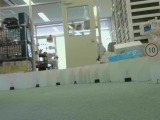speed_10: (142, 42, 160, 58)
